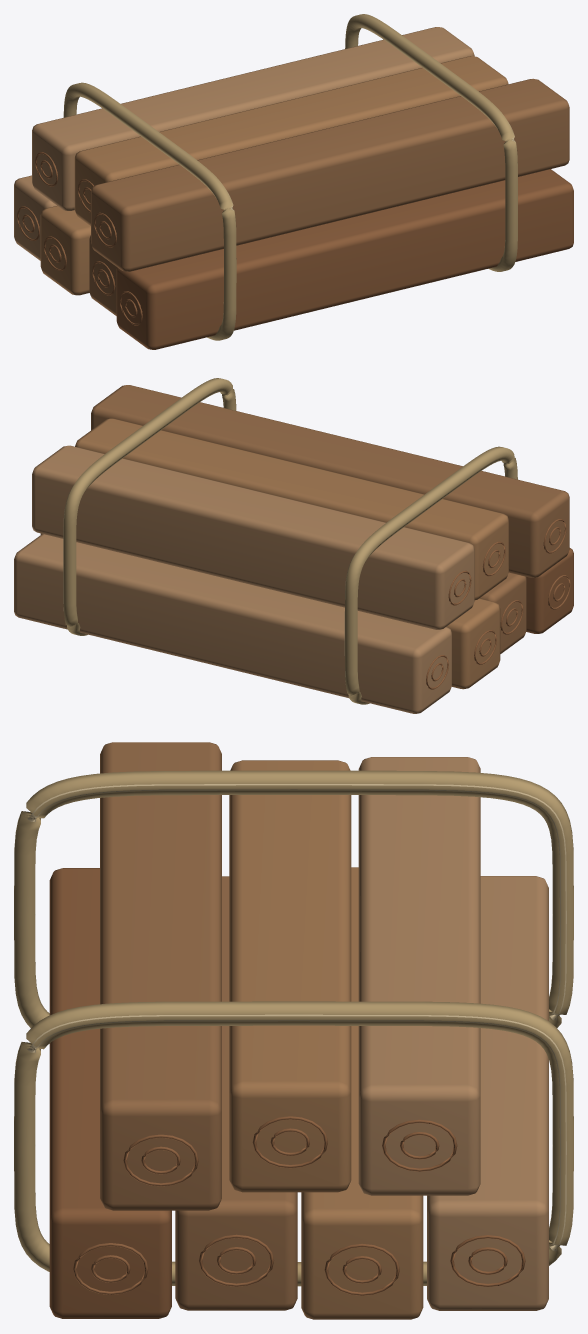
File: wood.glb
3 renders of one model, top to bottom at view 1: azimuth 30°, elevation 25°; view 2: azimuth 150°, elevation 25°; view 3: azimuth 270°, elevation 25°, orthographic. The views are drawn at different scales.
Parts seen in each view (by area): view 1: Cargo_wood; view 2: Cargo_wood; view 3: Cargo_wood.
Part boxes in pixels (left/top/right/bottom): Cargo_wood: left=14, top=14, right=573, bottom=349; Cargo_wood: left=14, top=378, right=573, bottom=713; Cargo_wood: left=14, top=742, right=573, bottom=1319.
Bounding box in the file's own units: 1.22 × 0.4294 × 0.7794.
